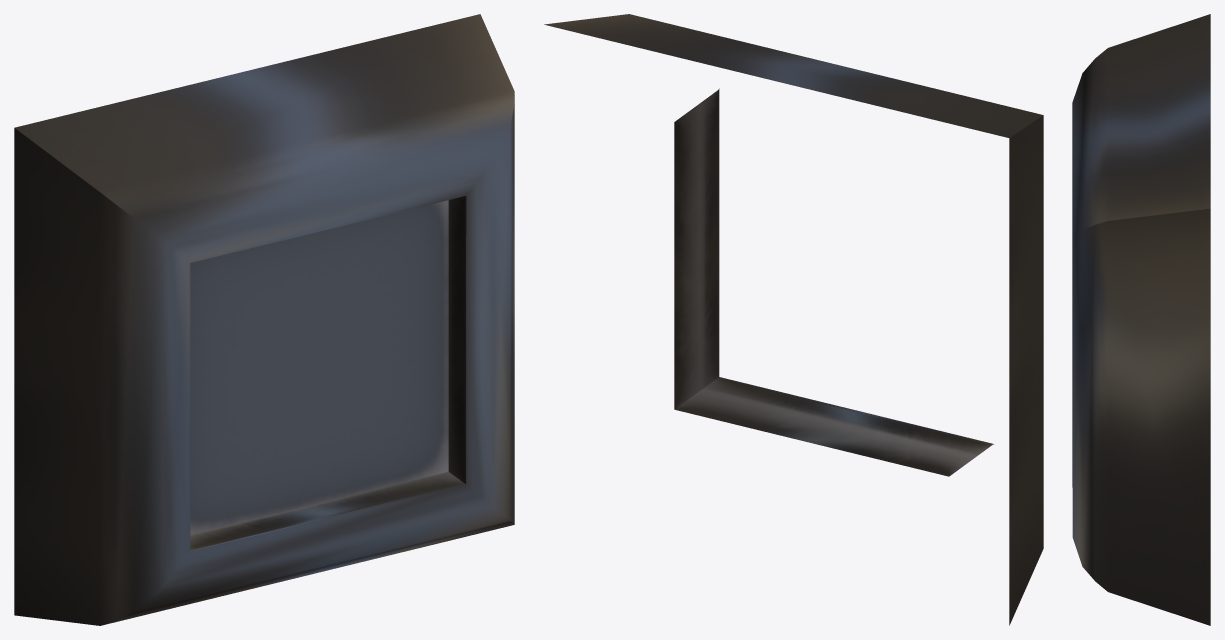
Rendered from button1.gltf.
The picture shows the model from 3 angles, left to right: view 1: azimuth 30°, elevation 25°; view 2: azimuth 150°, elevation 25°; view 3: azimuth 270°, elevation 25°; orthographic projection. The views are drawn at different scales.
Parts seen in each view (by area): view 1: Case, button; view 2: Case; view 3: Case.
Part boxes in pixels (box(x1,y1,x2,y2)): Case: box(14, 14, 514, 625); button: box(190, 200, 448, 534); Case: box(544, 14, 1043, 625); Case: box(1072, 14, 1210, 625).
Size of the model in its own units: 0.0254 by 0.0254 by 0.00764.
